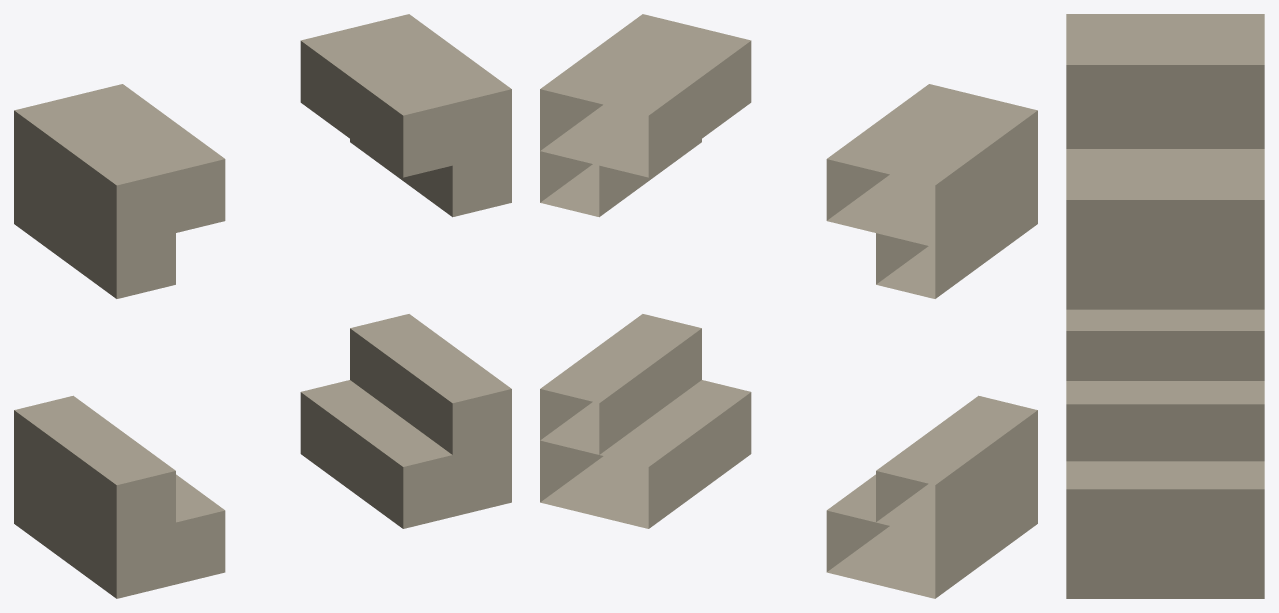
The model's file is construction_1.glb.
The picture shows the model from 3 angles, left to right: view 1: azimuth 30°, elevation 25°; view 2: azimuth 150°, elevation 25°; view 3: azimuth 270°, elevation 25°; orthographic projection. The views are drawn at different scales.
Visible parts, largest first — view 1: c1; view 2: c1; view 3: c1.
Part boxes in pixels (x1,y1,x2,y2): c1: (14, 14, 511, 598); c1: (540, 14, 1037, 598); c1: (1066, 14, 1264, 598).
Size of the model in its own units: 4 by 4 by 1.8.
